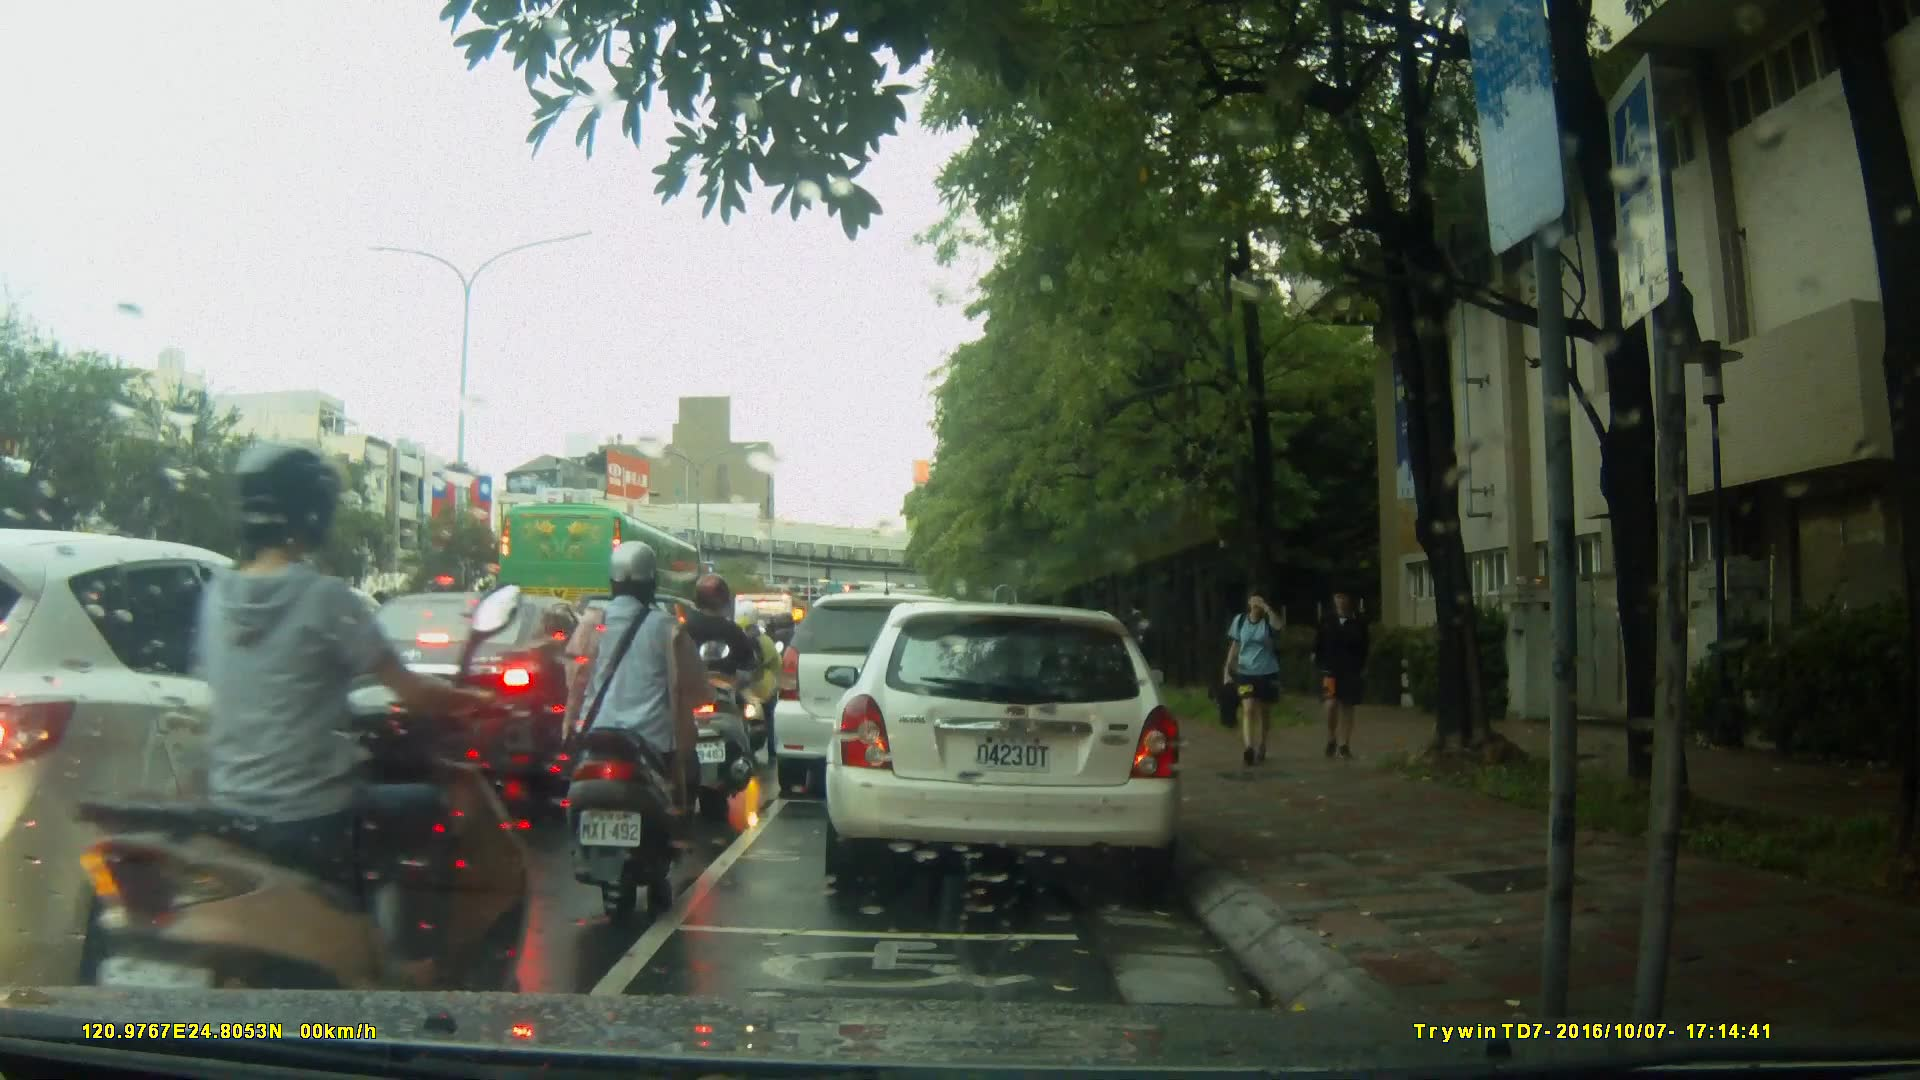pedestrian: (1205, 579, 1310, 768), (1306, 572, 1381, 767), (1123, 596, 1161, 709)
rider: (74, 438, 525, 1073), (555, 542, 706, 915), (661, 572, 756, 810), (716, 602, 784, 759), (763, 611, 814, 740)
vehicle: (1, 528, 447, 987), (831, 592, 1196, 897), (313, 590, 636, 806), (770, 591, 999, 802), (495, 500, 707, 637)
